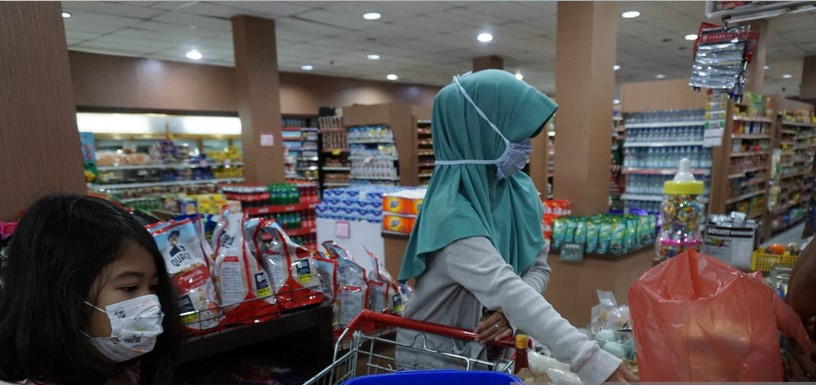face_with_mask: (30, 204, 169, 367), (436, 70, 555, 183)
